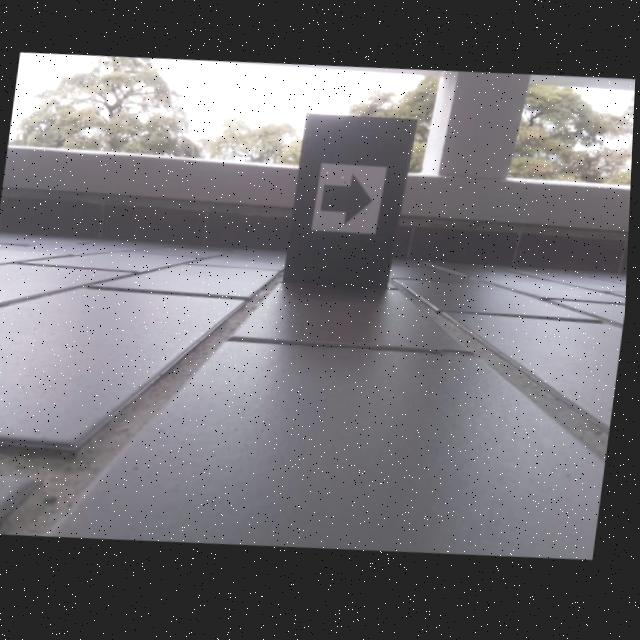RIGHT: (321, 176, 376, 229)
